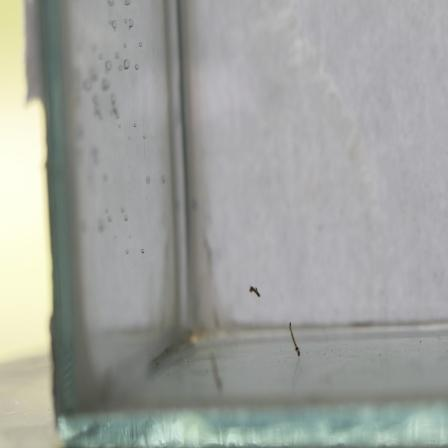Jentik-Nyamuk: (284, 317, 305, 363), (247, 280, 264, 298)
